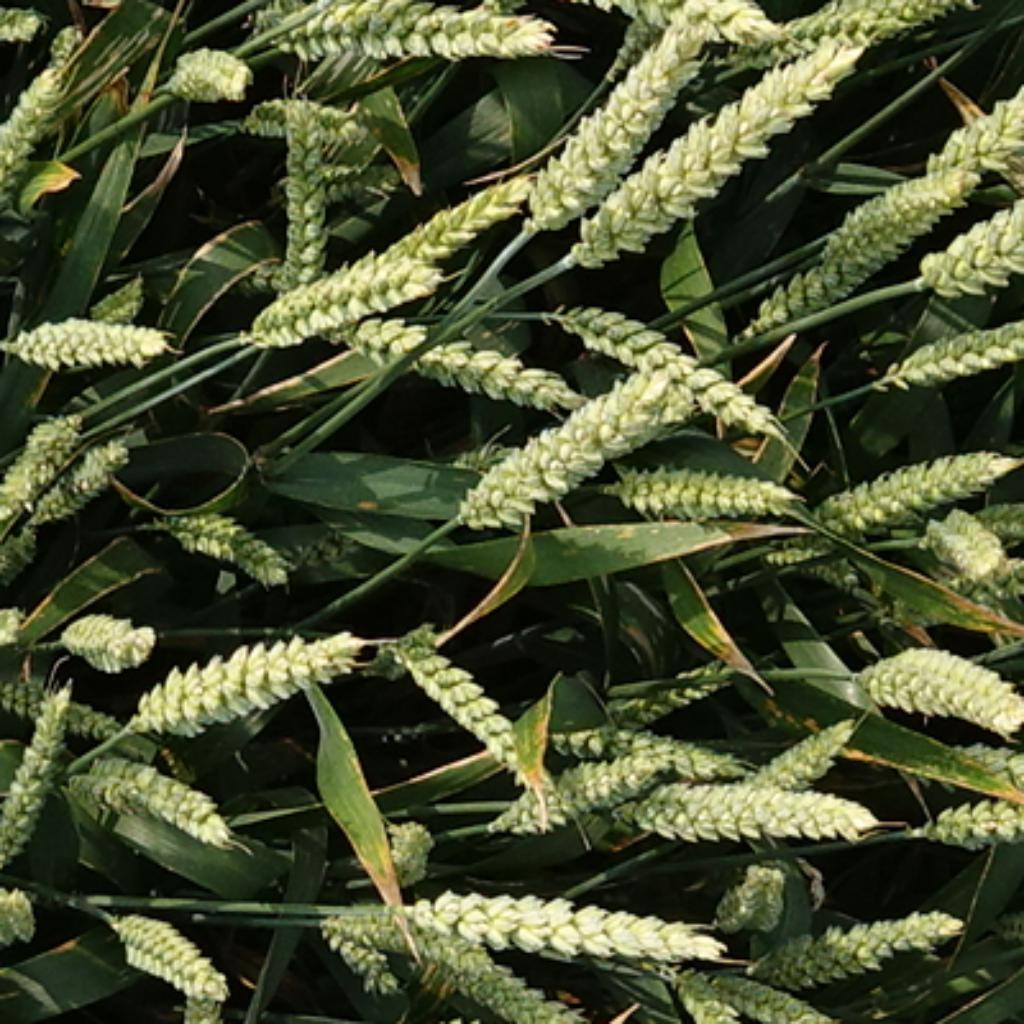0-0: (560, 38, 872, 279), (747, 161, 993, 343), (448, 366, 693, 542), (512, 20, 709, 227), (550, 294, 785, 440), (117, 616, 368, 739), (396, 888, 732, 967), (332, 314, 593, 412), (391, 629, 540, 791), (396, 910, 606, 1023), (240, 2, 578, 69), (238, 253, 458, 350), (750, 893, 962, 988), (599, 780, 883, 849), (808, 445, 1024, 532), (376, 174, 532, 291), (491, 752, 673, 849), (727, 2, 985, 69), (66, 752, 238, 852), (0, 58, 81, 268), (849, 632, 1024, 727), (606, 455, 806, 527), (906, 184, 1021, 307), (0, 683, 76, 865), (163, 501, 307, 593), (276, 87, 335, 309), (107, 896, 232, 998), (545, 721, 755, 780), (558, 2, 788, 53), (0, 670, 145, 750), (0, 302, 181, 366), (893, 555, 1024, 637), (885, 322, 1024, 399), (601, 657, 747, 727), (939, 81, 1024, 199), (0, 407, 87, 522), (38, 432, 135, 529), (916, 499, 1011, 591), (709, 975, 880, 1024), (770, 540, 885, 611), (908, 785, 1024, 852), (238, 84, 363, 145), (747, 716, 857, 785), (709, 849, 798, 929), (890, 737, 1024, 788), (53, 599, 153, 663), (430, 424, 524, 491), (161, 38, 253, 104), (322, 919, 399, 995), (289, 161, 407, 209), (266, 522, 371, 573), (673, 968, 755, 1024), (601, 17, 663, 89), (46, 20, 110, 81), (378, 819, 435, 885), (151, 990, 240, 1024), (240, 263, 348, 291), (76, 271, 145, 314), (0, 519, 46, 581), (0, 875, 40, 936), (0, 2, 48, 43), (0, 122, 2, 174)
